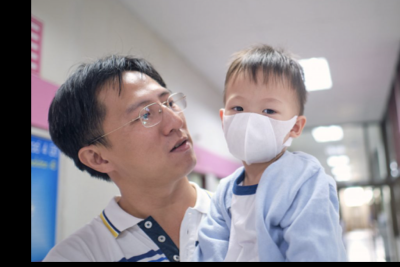with_mask: (223, 90, 299, 165)
without_mask: (112, 86, 198, 184)
